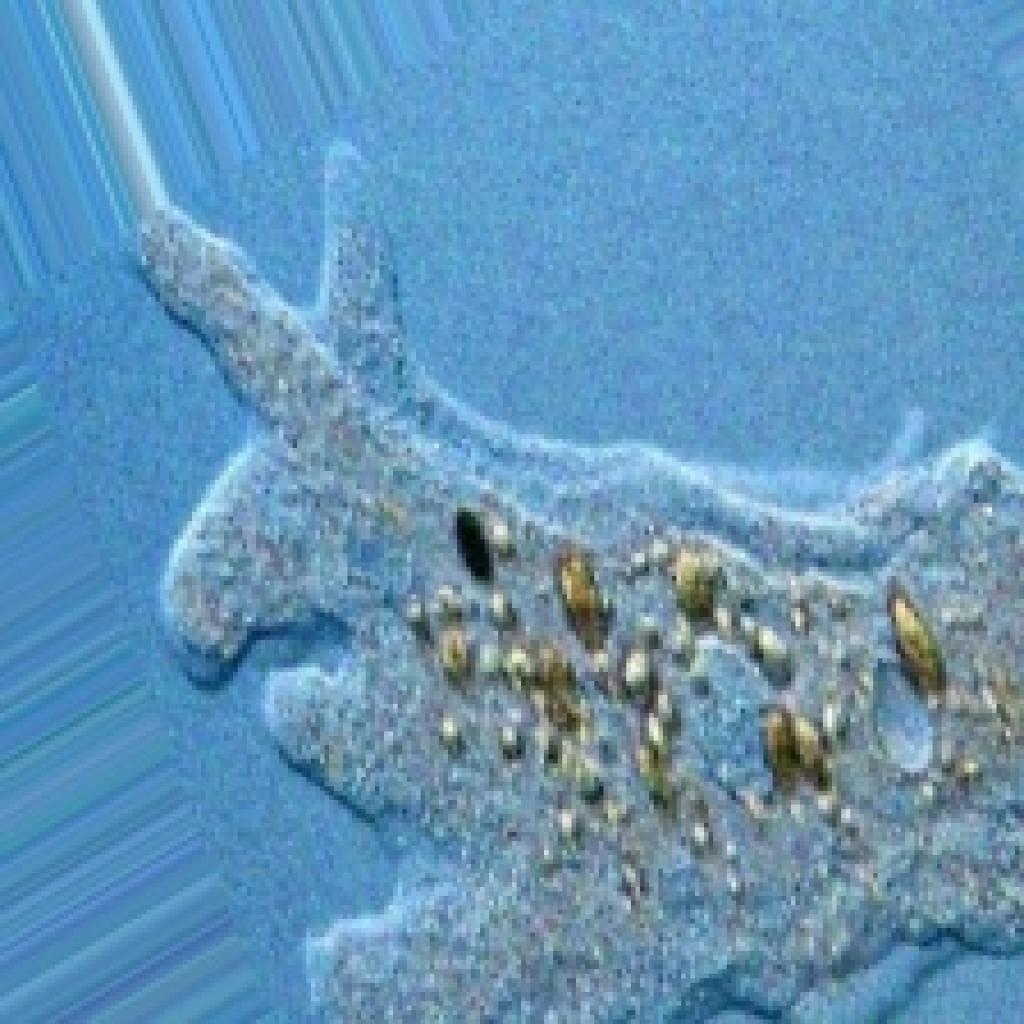Amoeba: (128, 132, 1019, 1020)
